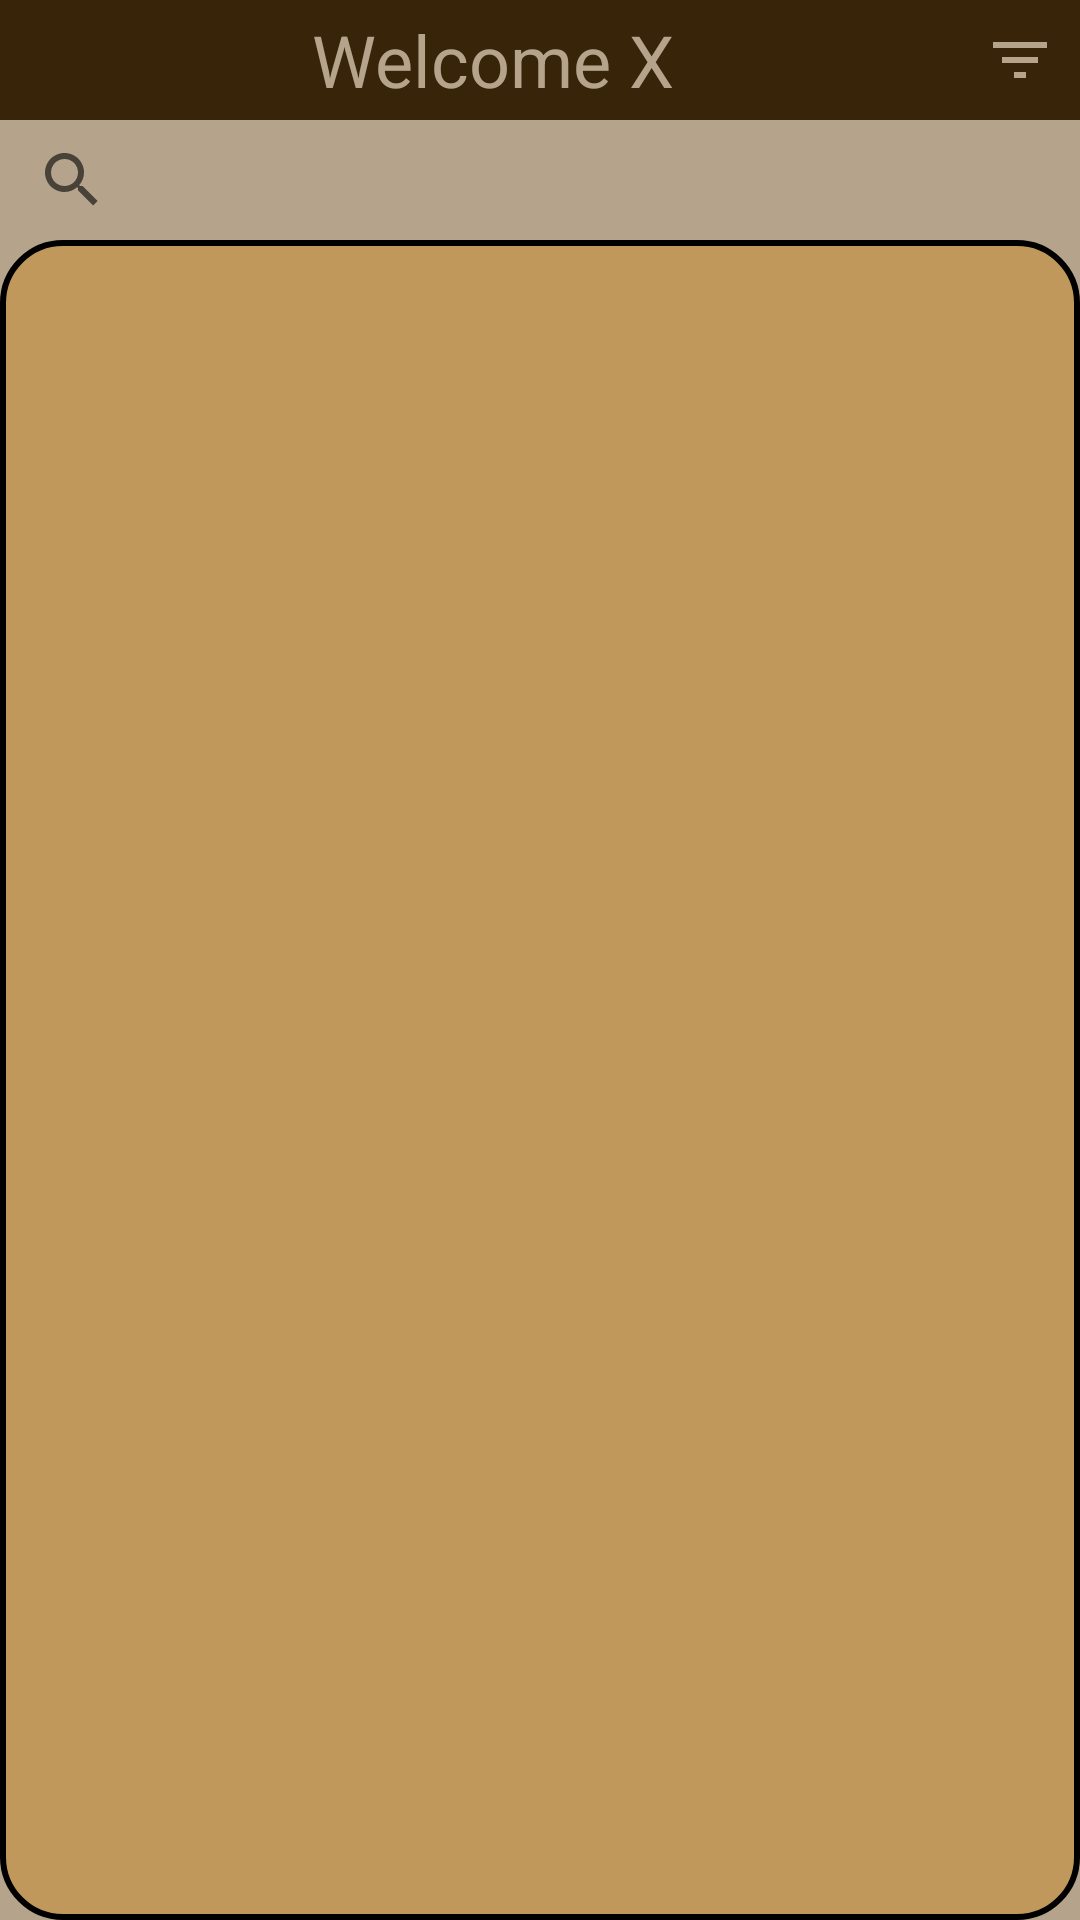

Point at icon controls on the screen. Image size 1080x1920, points as point (x, y).
filter: point (1020, 60)
